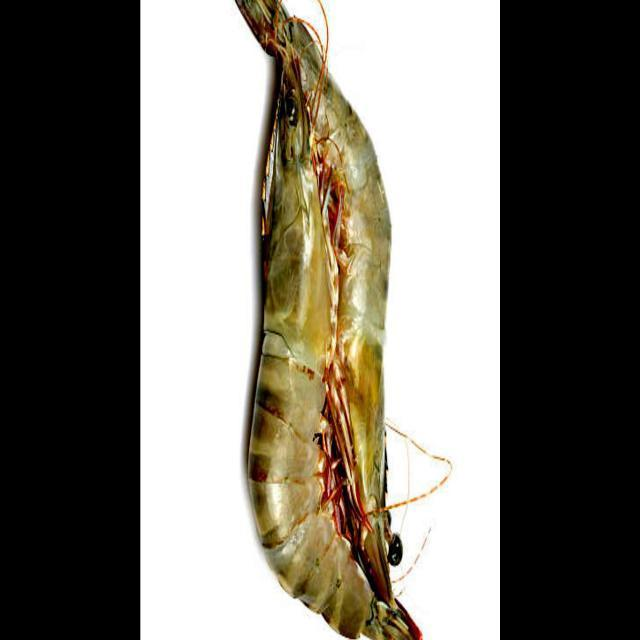shrimp: (235, 0, 422, 640), (249, 49, 416, 640)
